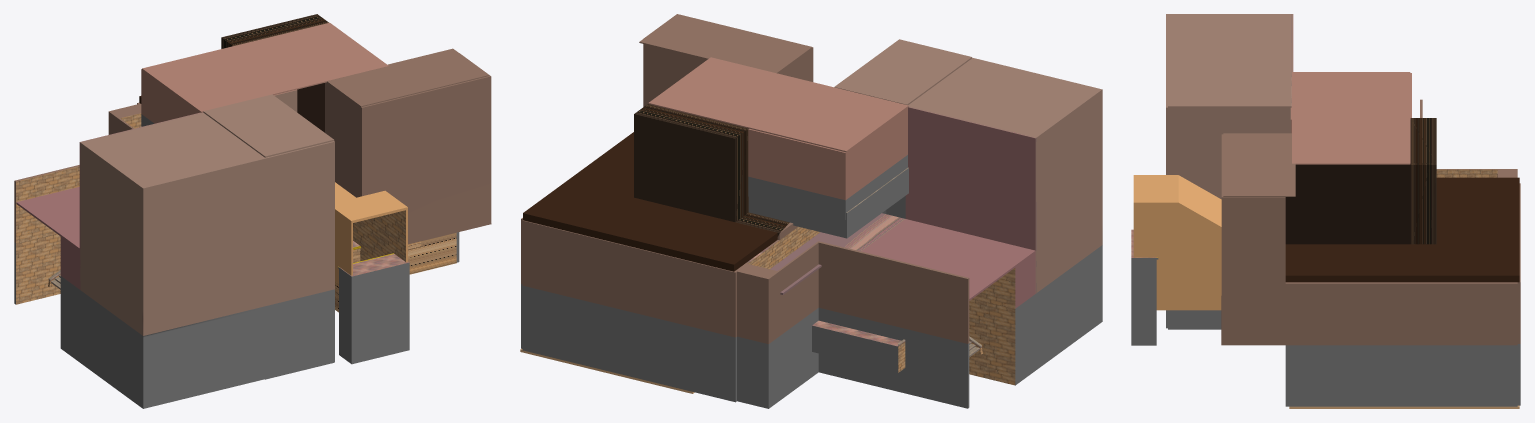
File: LVL2_Temple02.fbx
3 renders of one model, left to right at view 1: azimuth 30°, elevation 25°; view 2: azimuth 150°, elevation 25°; view 3: azimuth 270°, elevation 25°, orthographic. The views are drawn at different scales.
Parts seen in each view (by area): view 1: Box139, Box135, Box146, Box153; view 2: Box135, Box139, Box146, Box136, Box128; view 3: Box135, Box139, Box146, Box153.
Boxes of the visible parts, <box> form: Box139: <box>16,94,334,408</box>; Box135: <box>14,14,491,312</box>; Box146: <box>141,22,388,126</box>; Box153: <box>338,253,409,364</box>; Box135: <box>520,14,969,408</box>; Box139: <box>770,39,1102,385</box>; Box146: <box>648,57,908,219</box>; Box136: <box>748,167,908,238</box>; Box128: <box>812,320,982,372</box>; Box135: <box>1133,99,1520,408</box>; Box139: <box>1166,14,1293,329</box>; Box146: <box>1290,72,1411,164</box>; Box153: <box>1131,229,1158,345</box>.
Size of the model in its own units: 9411 by 5333 by 8419.
